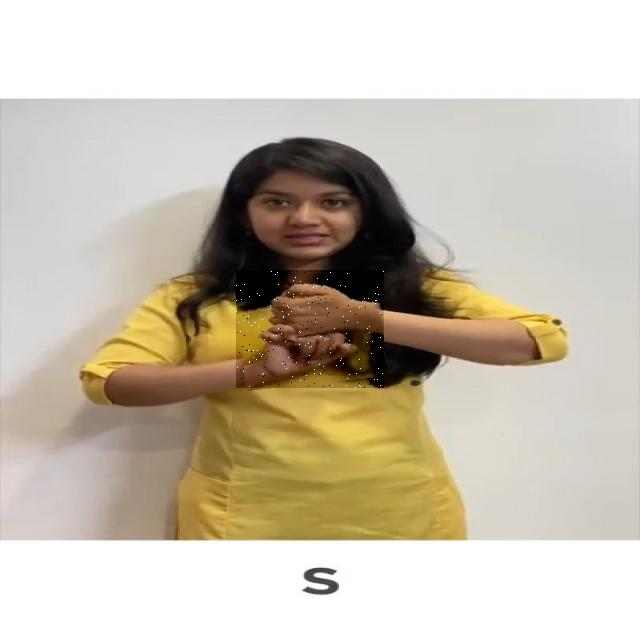S: (236, 270, 384, 388)
